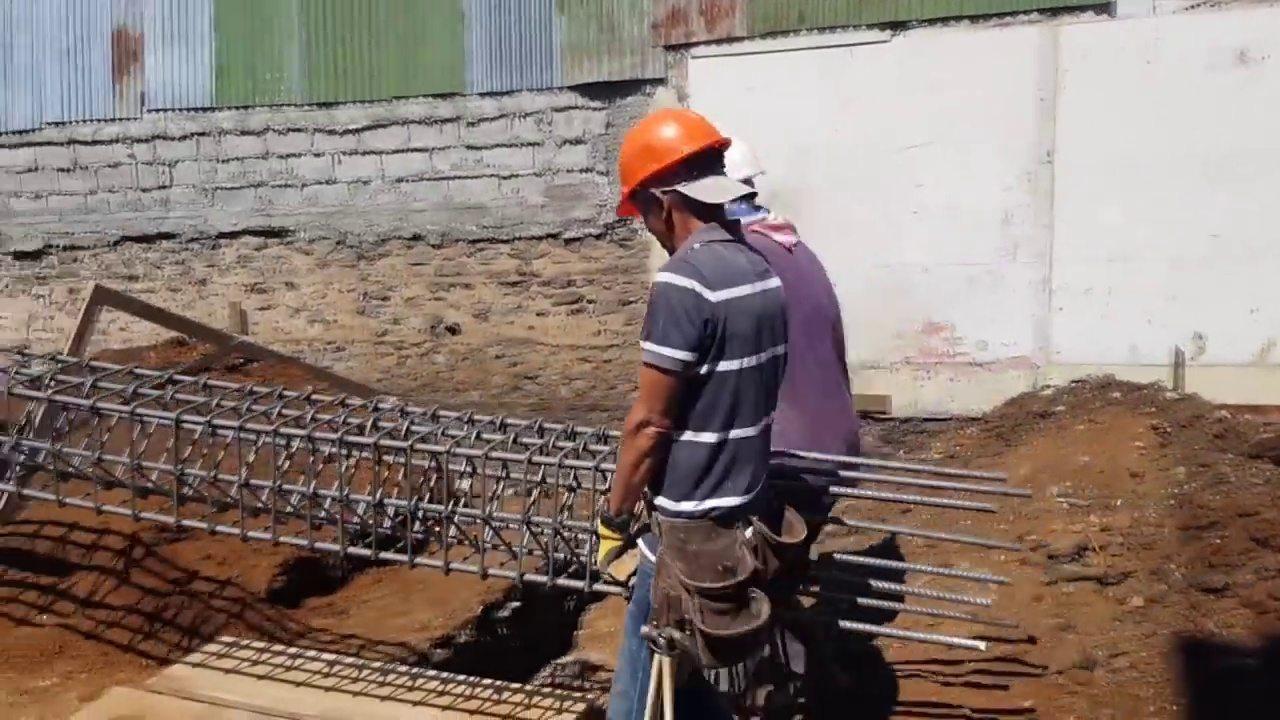helmet: (615, 106, 736, 223)
helmet-on: (609, 105, 740, 267)
person: (597, 121, 793, 720), (722, 141, 856, 563)
